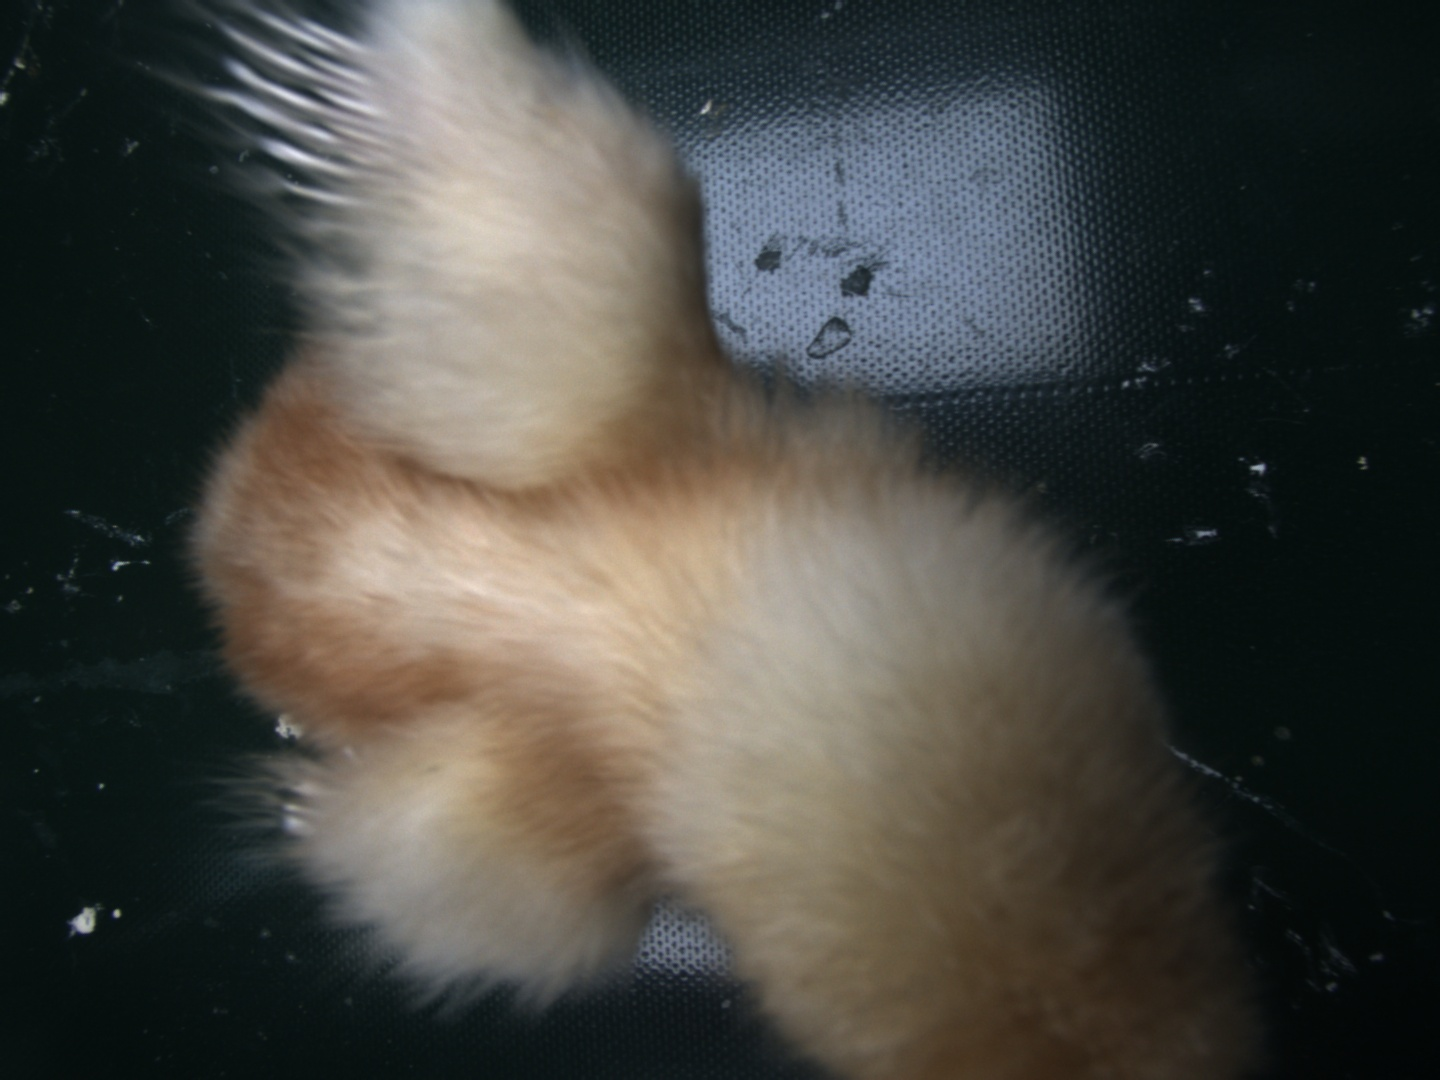female: (217, 5, 393, 216)
